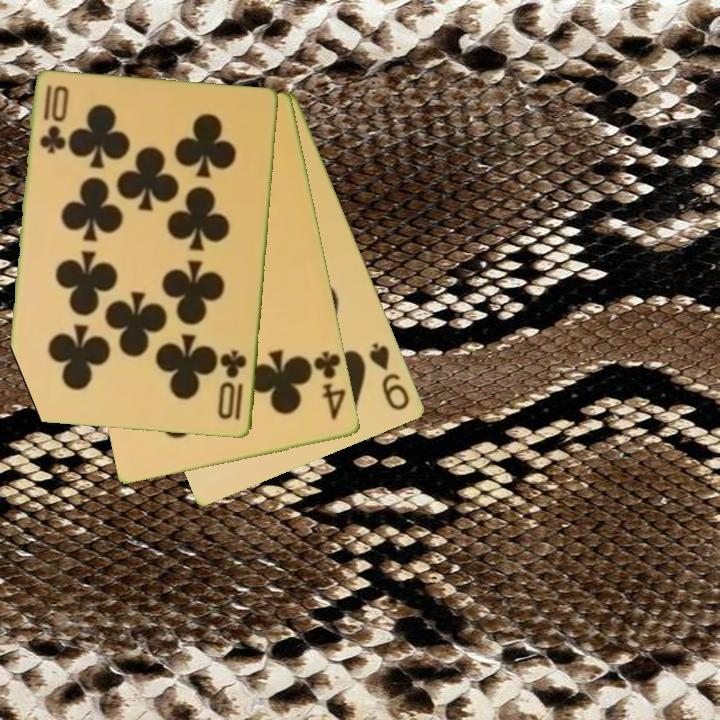10c: (215, 346, 250, 424), (37, 81, 65, 157)
4c: (310, 348, 349, 423)
9s: (366, 339, 413, 414)
